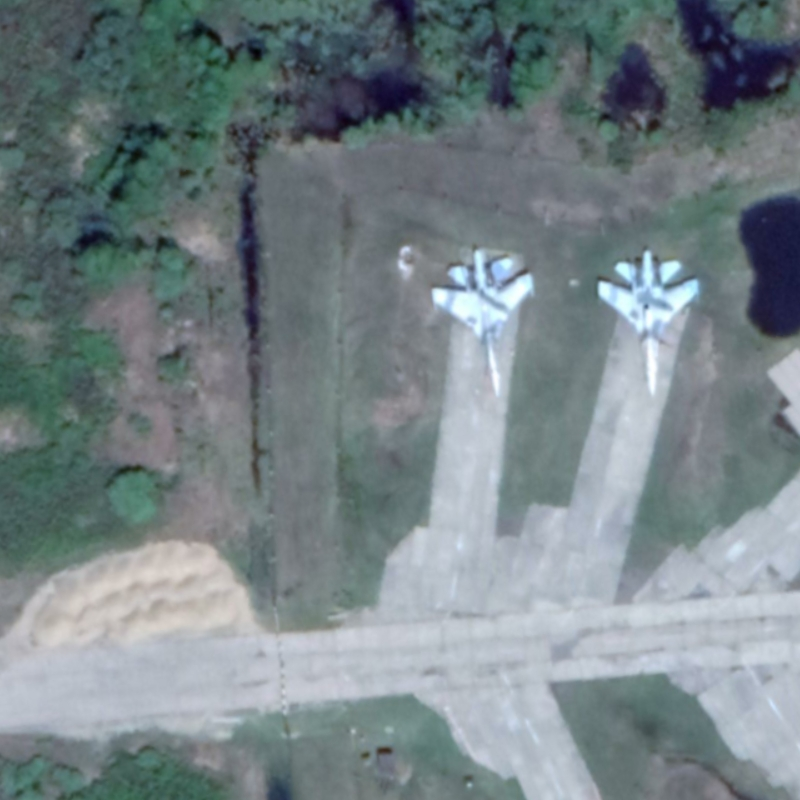A1: (428, 244, 539, 403), (593, 244, 702, 400)
